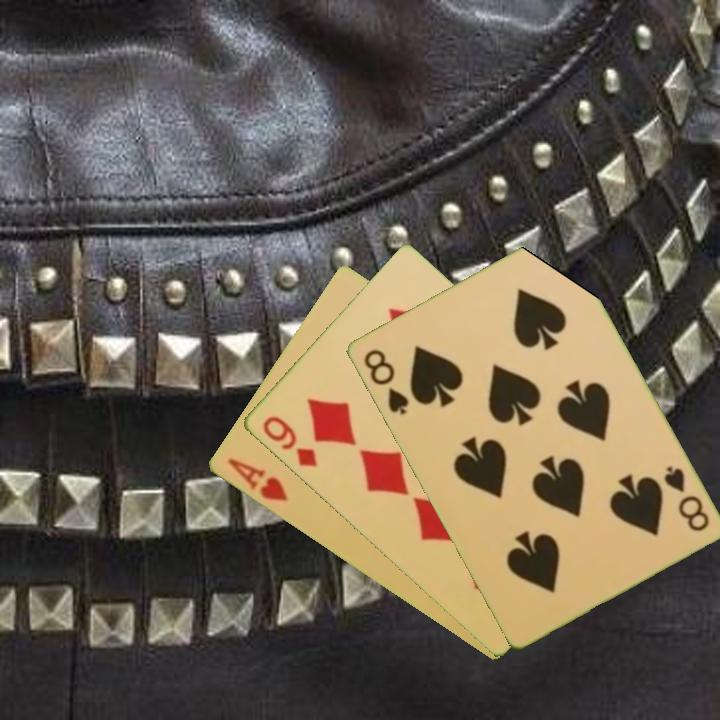8s: (659, 462, 712, 535), (359, 345, 411, 418)
9d: (258, 412, 320, 470)
Ah: (223, 454, 290, 505)
